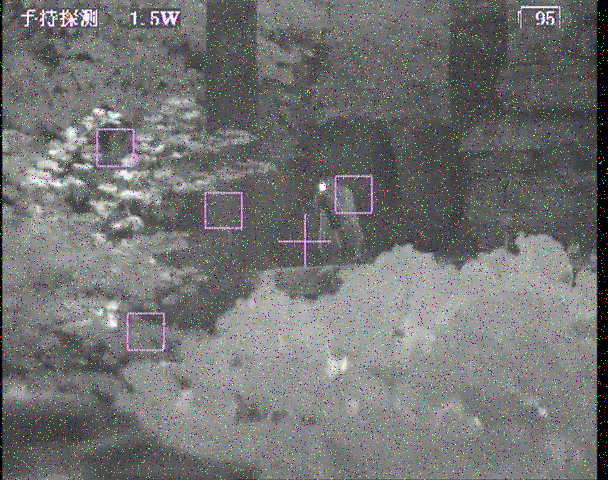my: (316, 181, 327, 194)
